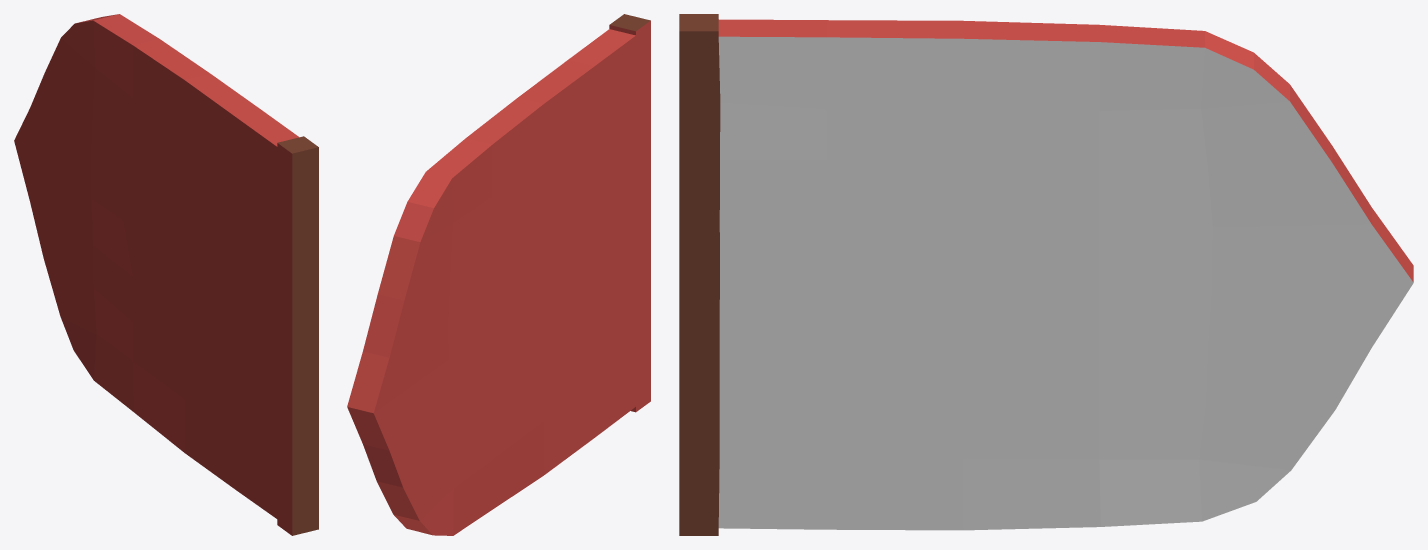
File: EscudoSanFelipe2.fbx
3 renders of one model, left to right at view 1: azimuth 30°, elevation 25°; view 2: azimuth 150°, elevation 25°; view 3: azimuth 270°, elevation 25°, orthographic. The views are drawn at different scales.
Visible parts, largest first — view 1: Cubo; view 2: Cubo; view 3: Cubo.
Part boxes in pixels (x1,y1,x2,y2): Cubo: (14, 14, 318, 535); Cubo: (347, 14, 650, 535); Cubo: (679, 14, 1413, 535).
Size of the model in its own units: 17.72 by 232 by 307.
